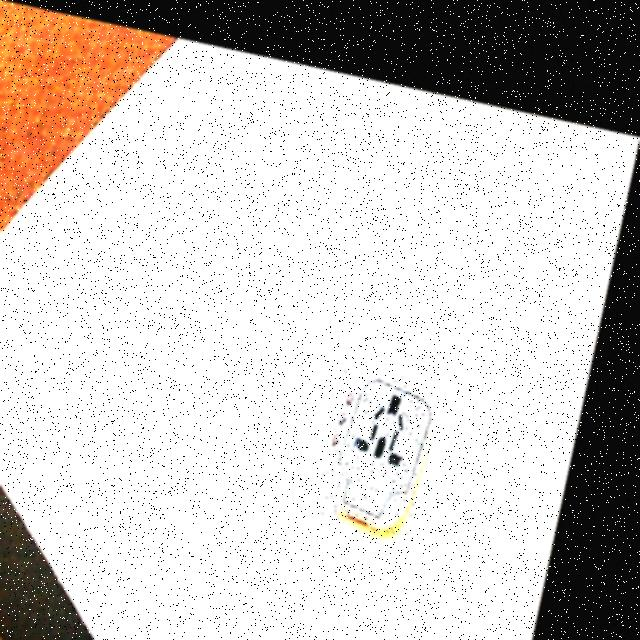adapter: (333, 347, 455, 515)
